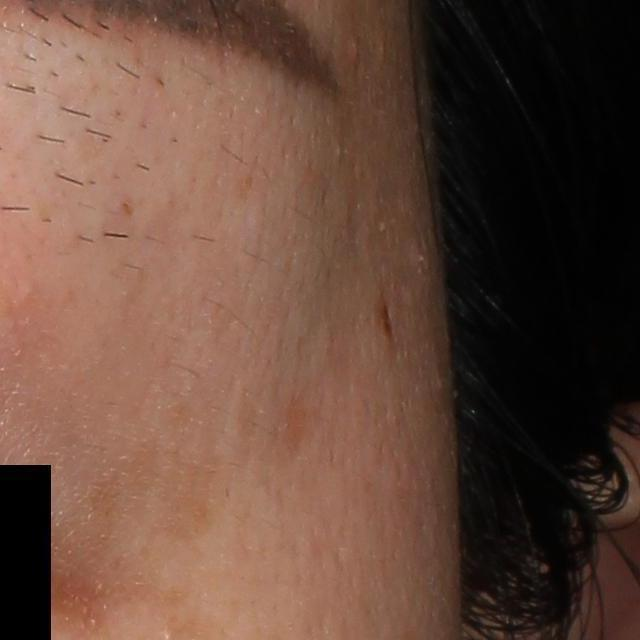melasma: (89, 394, 222, 547)
